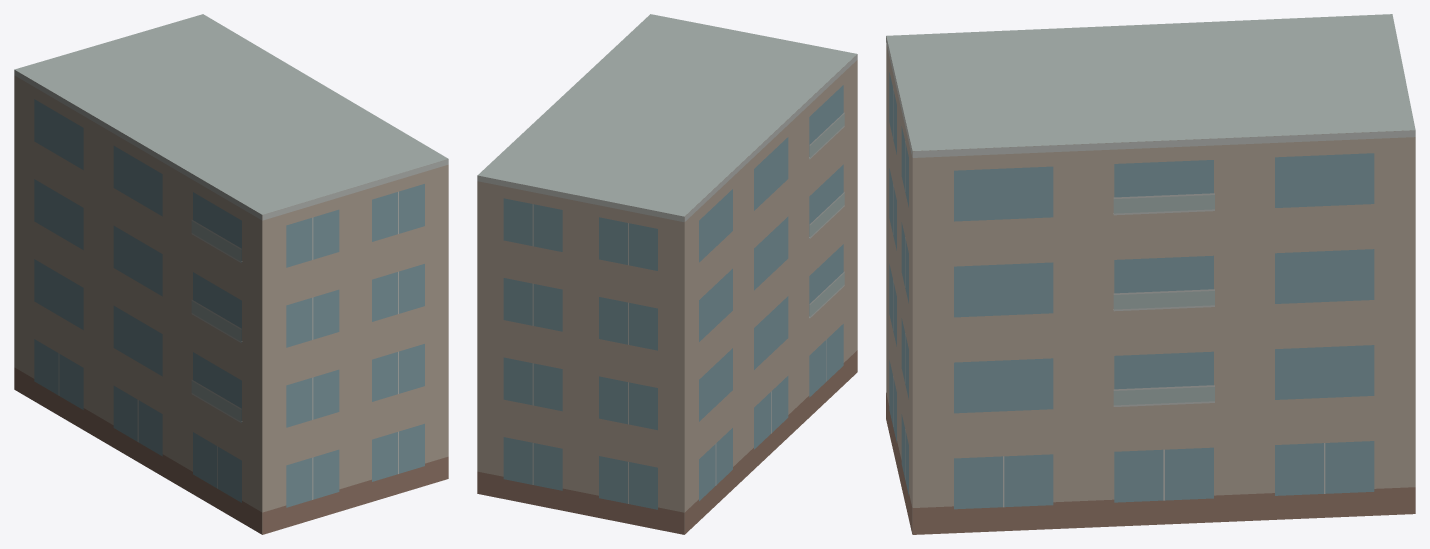
The model's file is survey-upis-32894098.glb.
3 views of the same model, side by side, from view 1: azimuth 30°, elevation 25°; view 2: azimuth 150°, elevation 25°; view 3: azimuth 270°, elevation 25° (orthographic). The views are drawn at different scales.
Parts seen in each view (by area): view 1: survey-upis-32894098.tmp; view 2: survey-upis-32894098.tmp; view 3: survey-upis-32894098.tmp.
Part boxes in pixels (bbox=[...]): survey-upis-32894098.tmp: bbox=[14, 14, 448, 534]; survey-upis-32894098.tmp: bbox=[477, 14, 857, 534]; survey-upis-32894098.tmp: bbox=[886, 14, 1415, 534].
Bounding box in the file's own units: 10.43 × 13.6 × 17.02.
